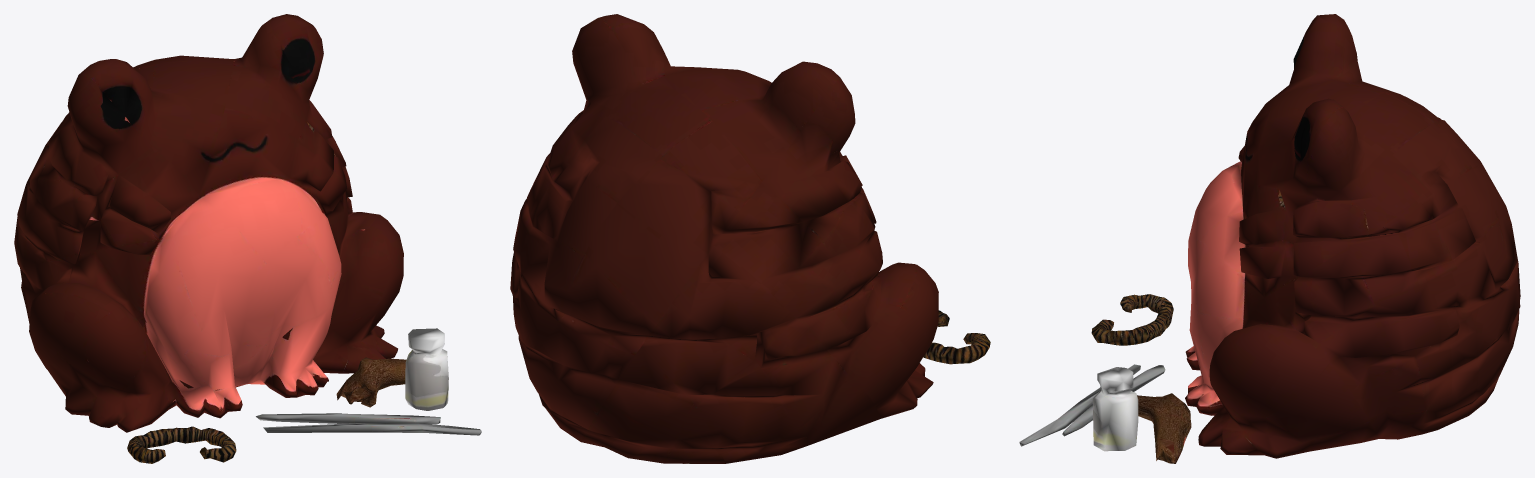
The model's file is myriapode.glb.
The picture shows the model from 3 angles, left to right: view 1: azimuth 30°, elevation 25°; view 2: azimuth 150°, elevation 25°; view 3: azimuth 270°, elevation 25°; orthographic projection. The views are drawn at different scales.
Parts seen in each view (by area): view 1: mesh_node; view 2: mesh_node; view 3: mesh_node.
Part boxes in pixels (x1,y1,x2,y2): mesh_node: (14,14,481,463); mesh_node: (510,14,990,463); mesh_node: (1019,14,1520,463).
Bounding box in the file's own units: 1.55 × 1.35 × 1.9.
1 material, 1 textured.
